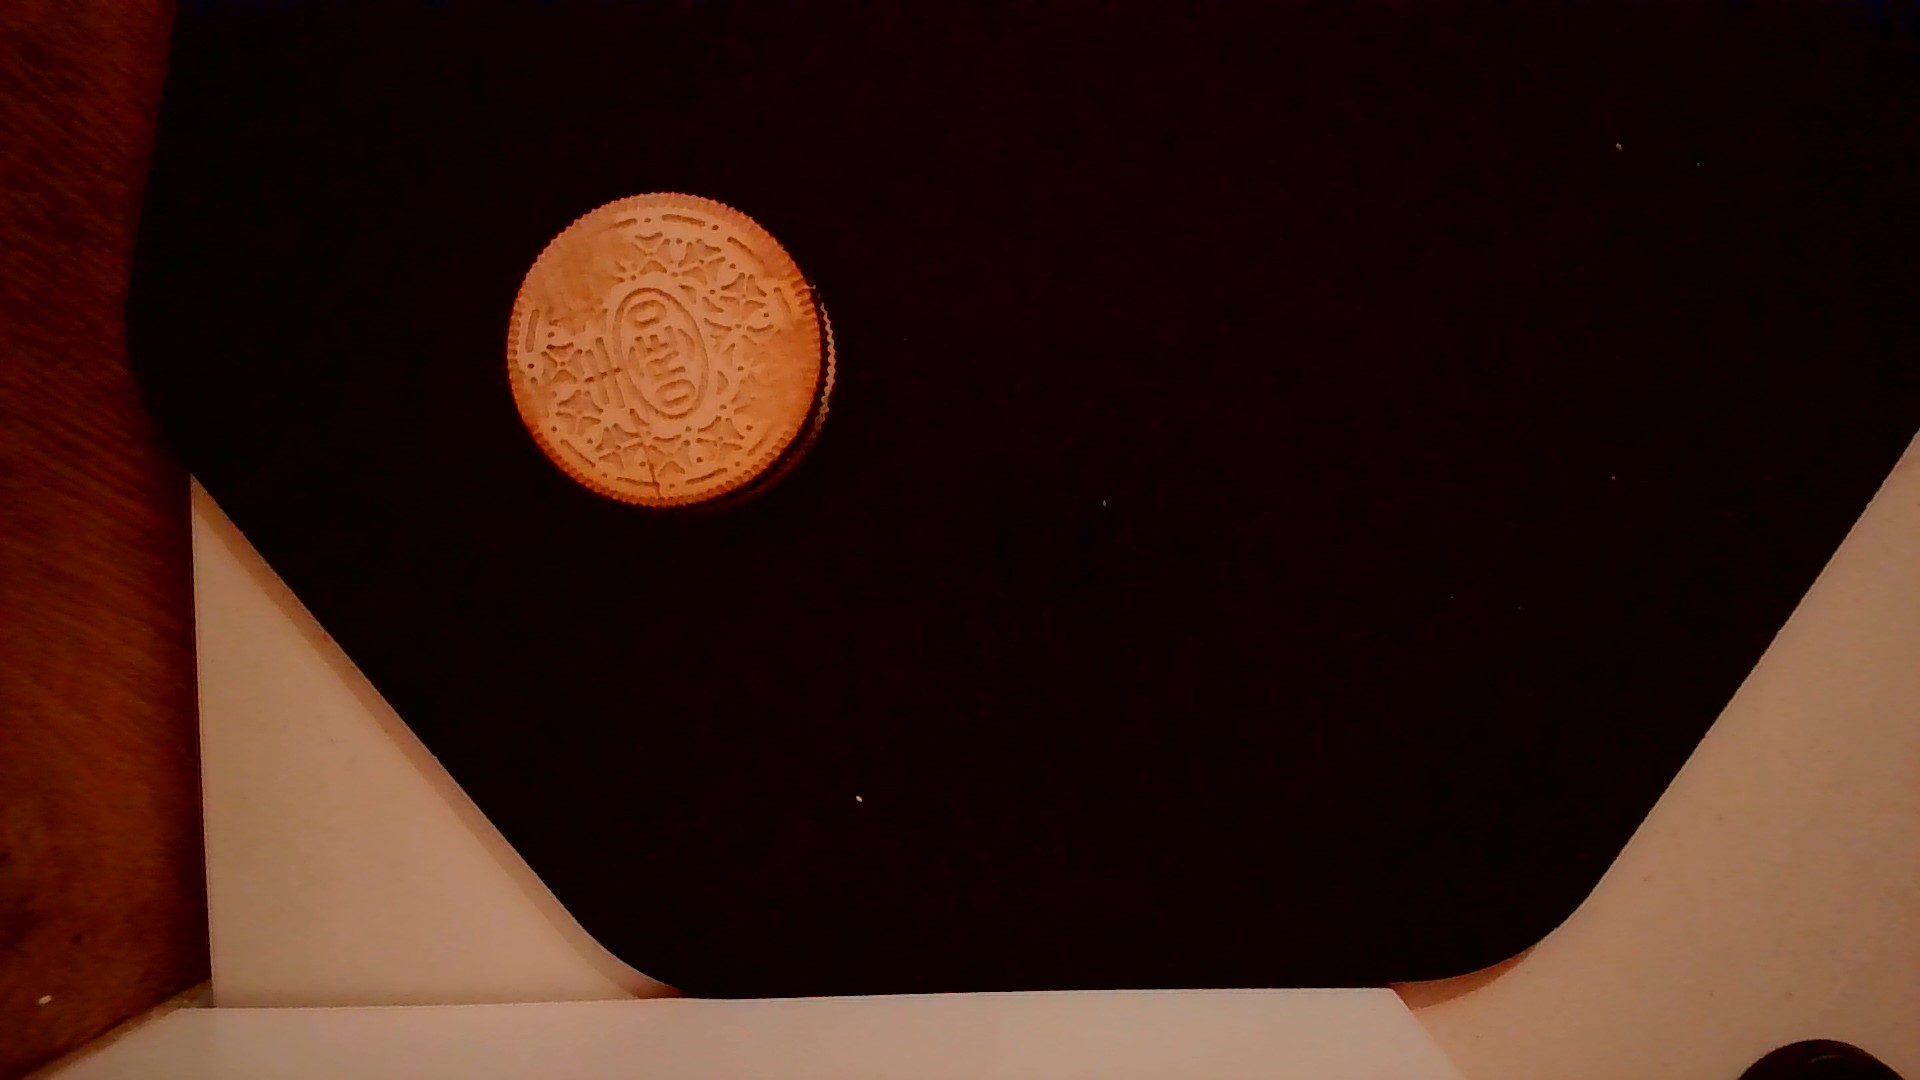Effacé: (508, 210, 644, 331), (746, 316, 814, 419)
Oréo: (495, 185, 843, 517)
